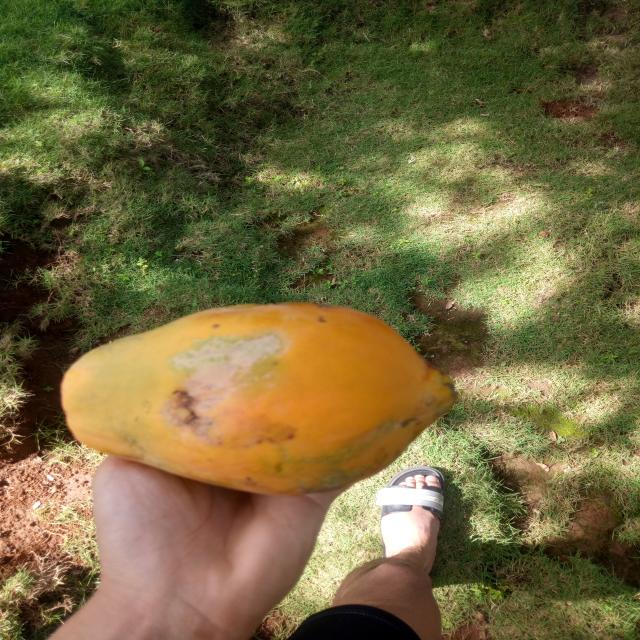Pepaya rippen: (58, 304, 460, 499)
